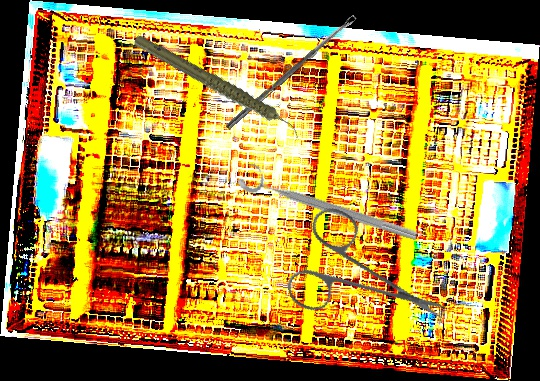Fixation Ring: (235, 158, 424, 247)
Handpiece: (130, 4, 304, 171)
Iris Scissors: (265, 181, 448, 366)
Surgical Spoon: (225, 14, 358, 131)
